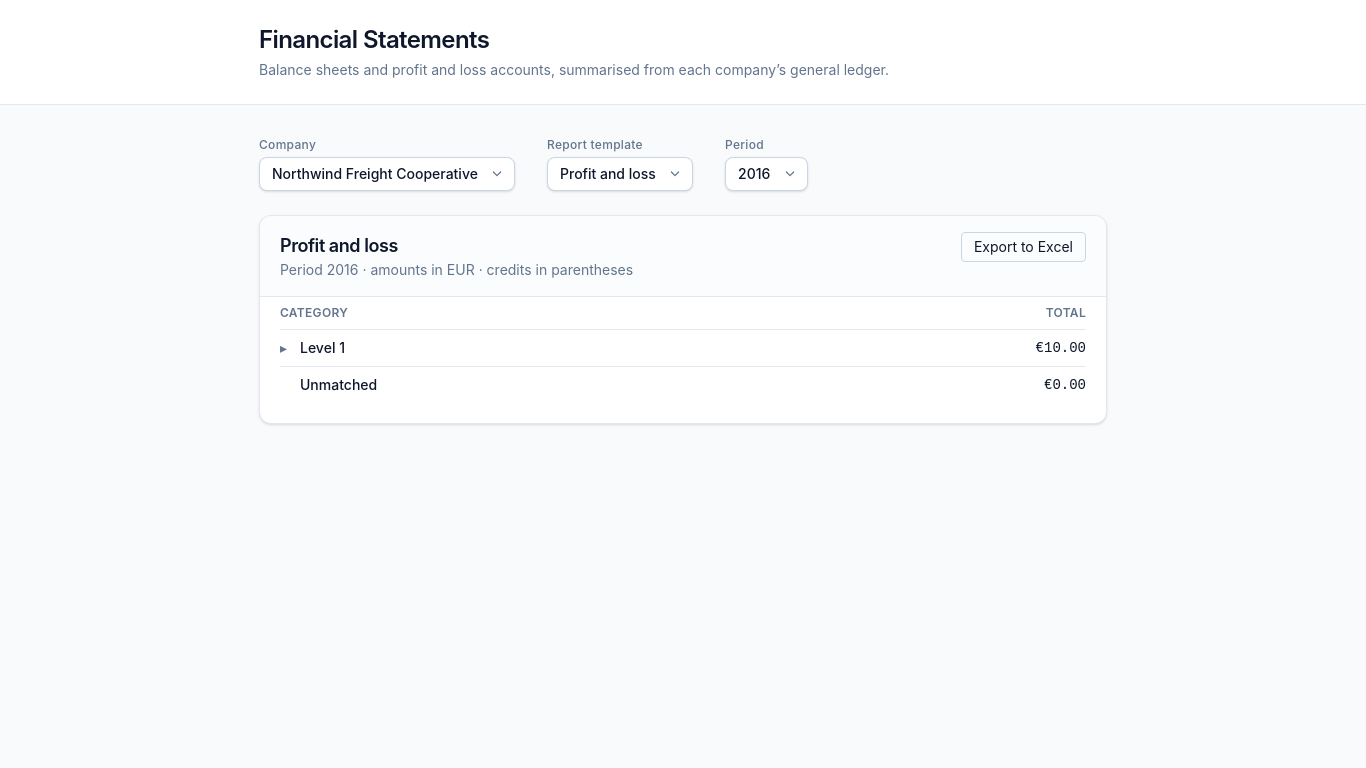
Scenario: nesting is not limited to two levels
The image size is (1366, 768).
Click the button "Level 1": (312, 348) [280,338,345,358]
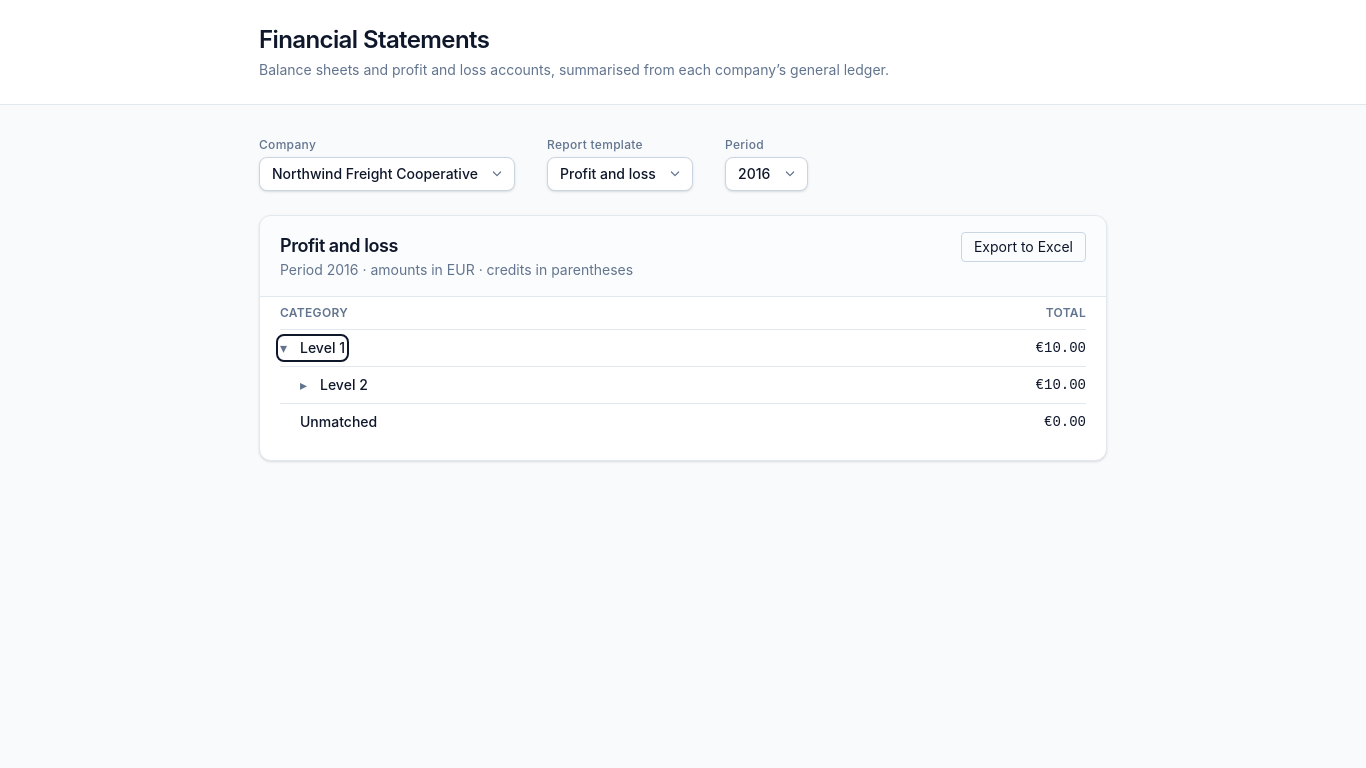
Click the button "Level 2": (334, 385) [300,375,368,395]
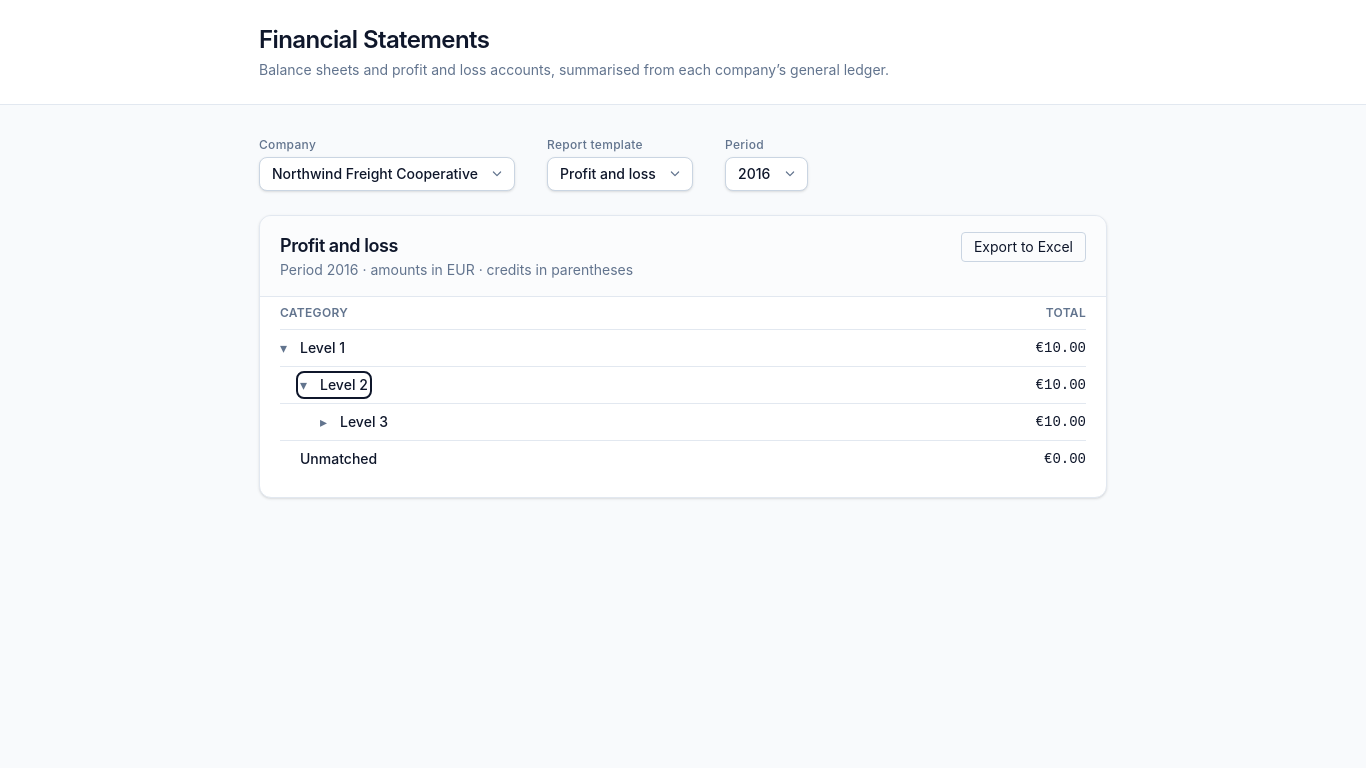
Click the button "Level 3": (354, 422) [320,412,388,432]
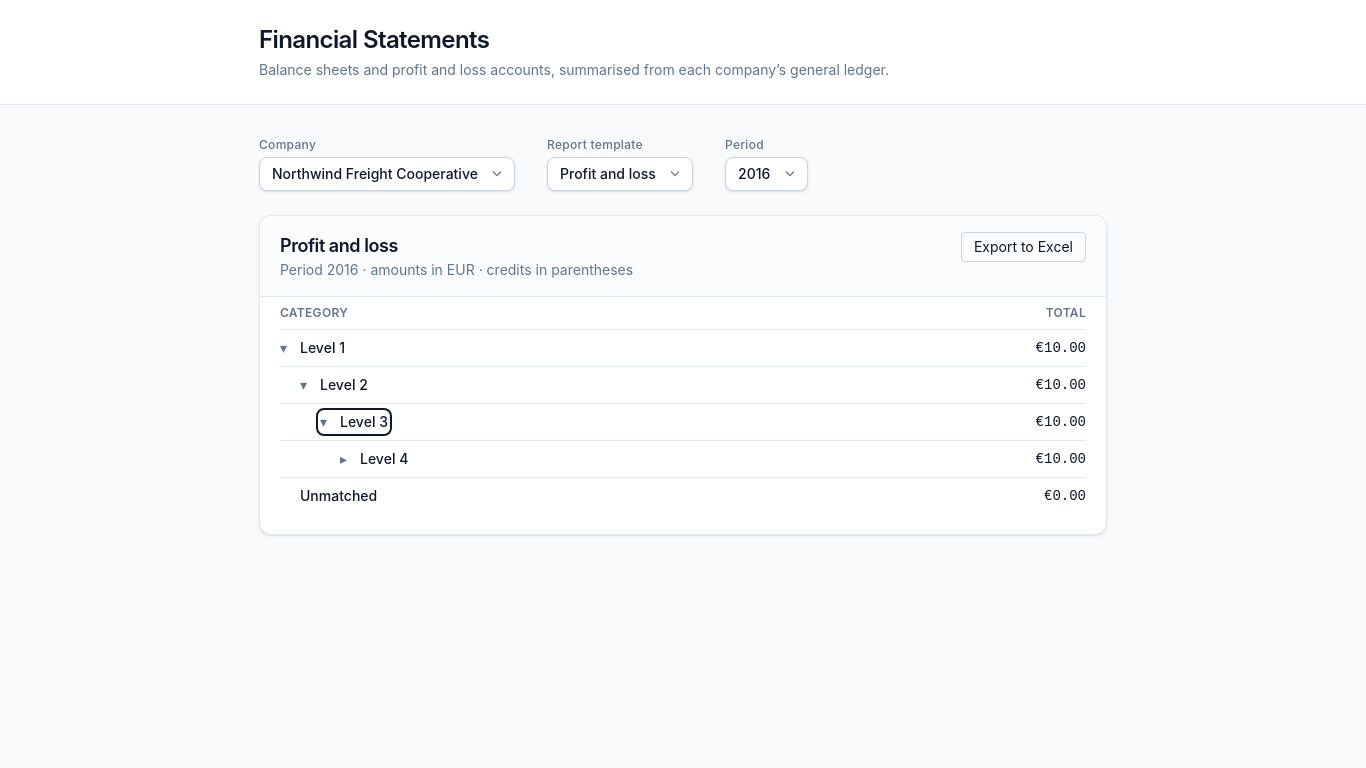
Click the button "Level 4": (374, 459) [340,449,408,469]
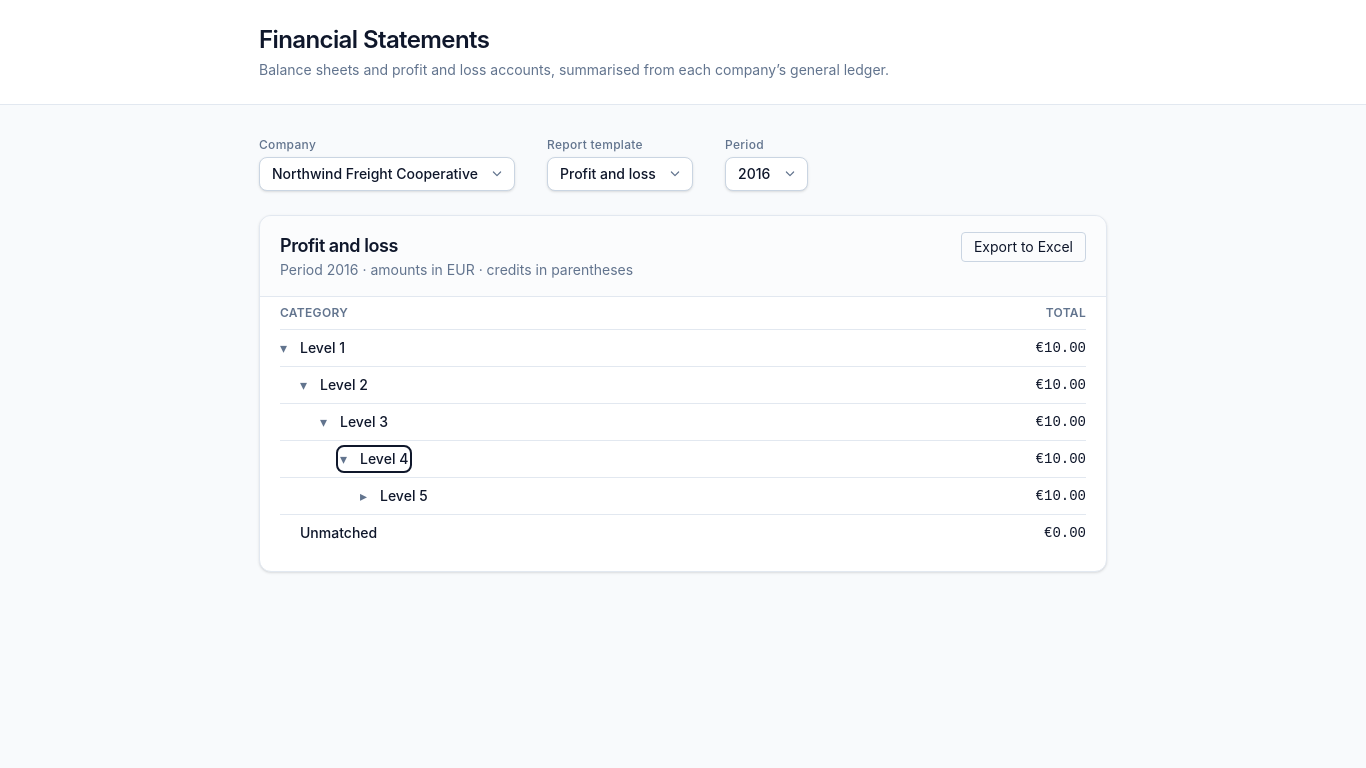
Click the button "Level 5": (394, 496) [360,486,428,506]
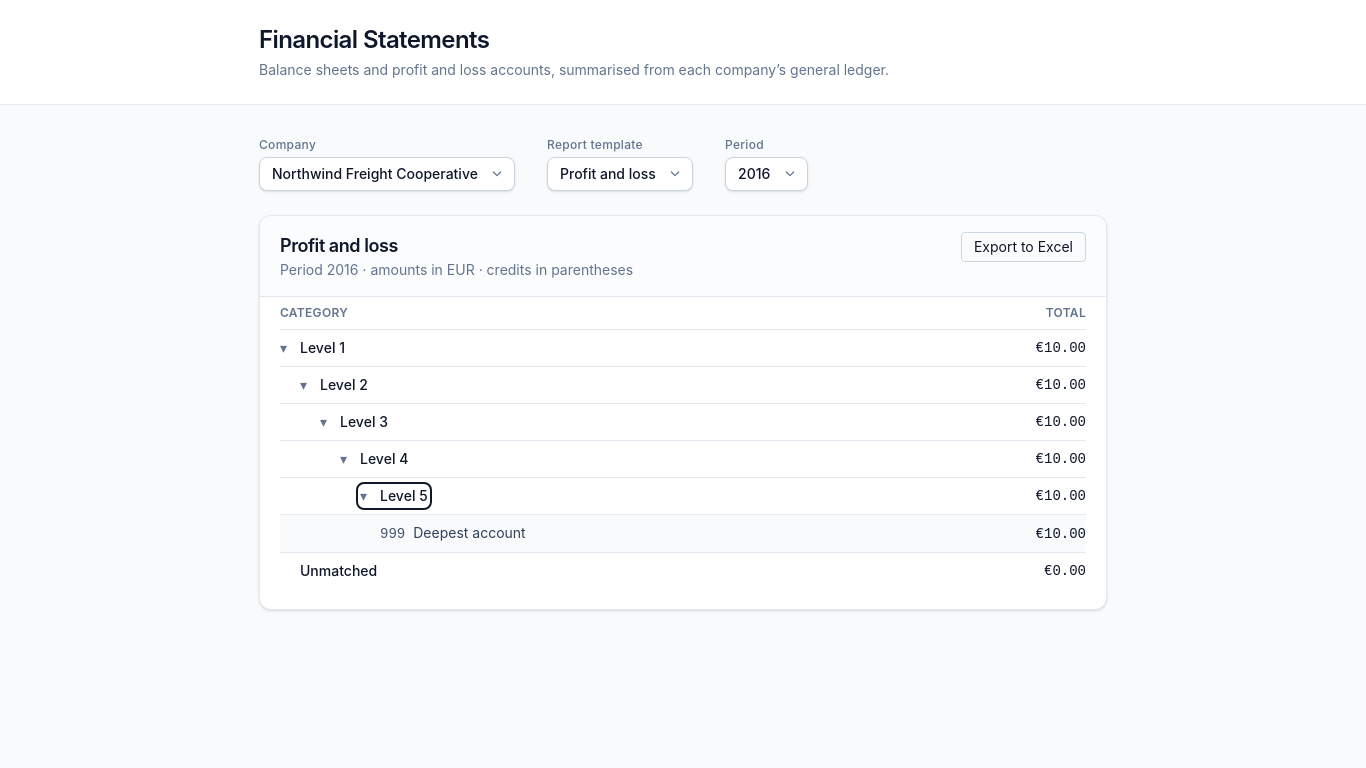
Check: the row "999Deepest account €10.00" is shown, box [280,514,1086,552]
